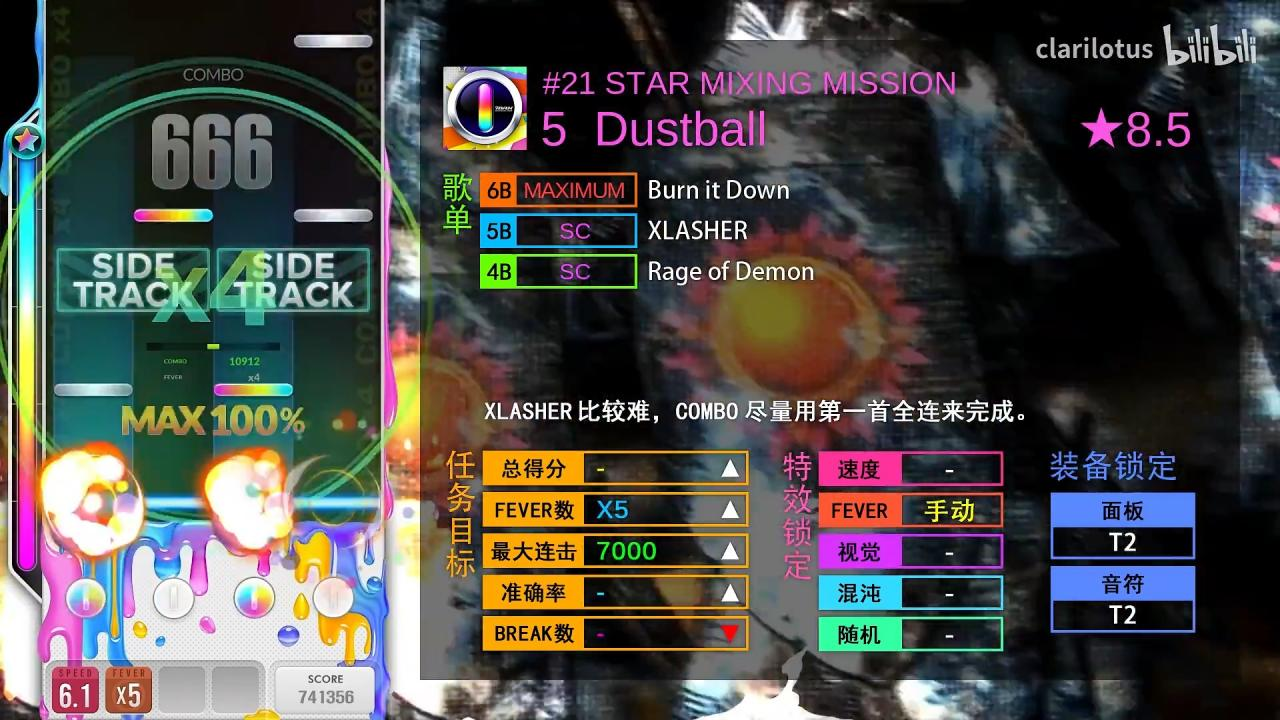note: (54, 382, 134, 398), (214, 382, 293, 397), (134, 209, 214, 223), (294, 34, 373, 48), (294, 209, 372, 222)
